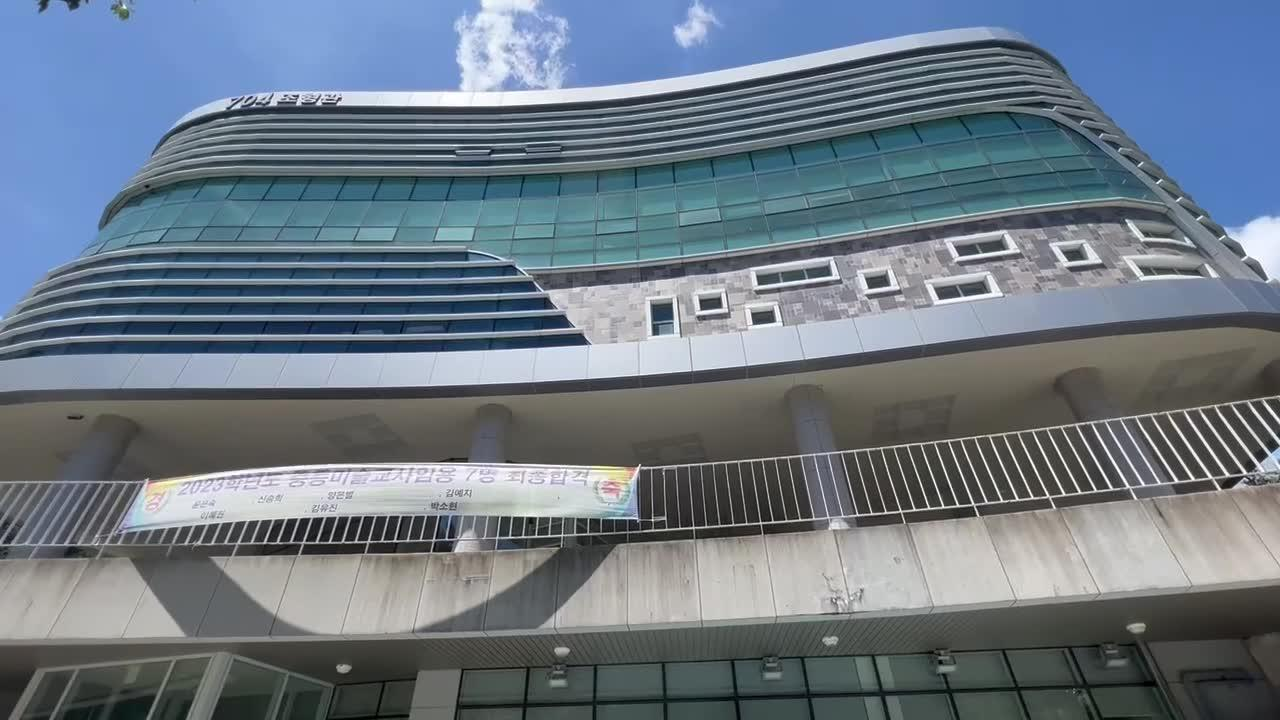building: (2, 14, 1280, 720)
